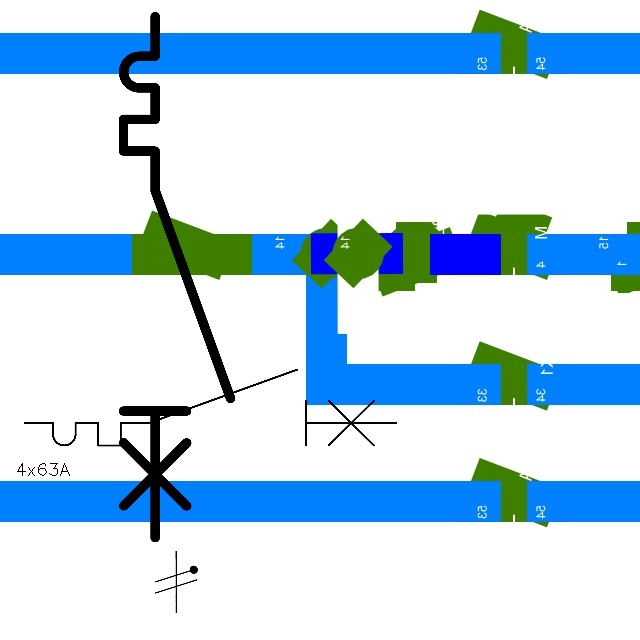interruptor_termomagnetico: (110, 3, 244, 551), (15, 360, 405, 455)
